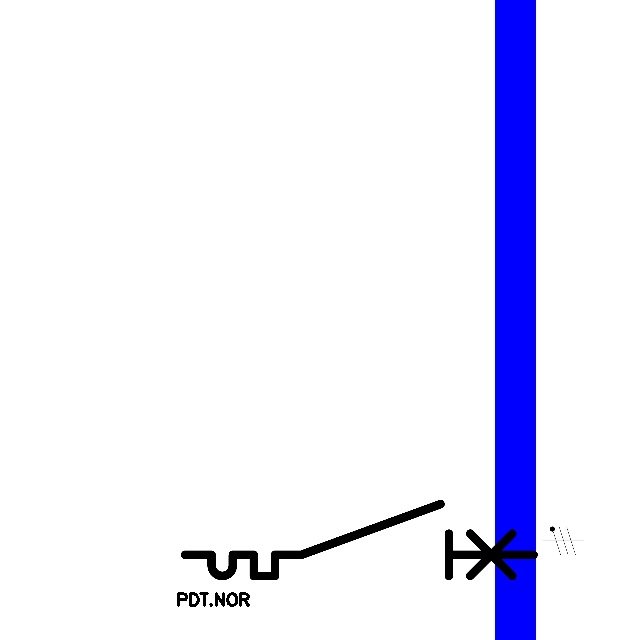interruptor_termomagnetico: (176, 495, 542, 585)
